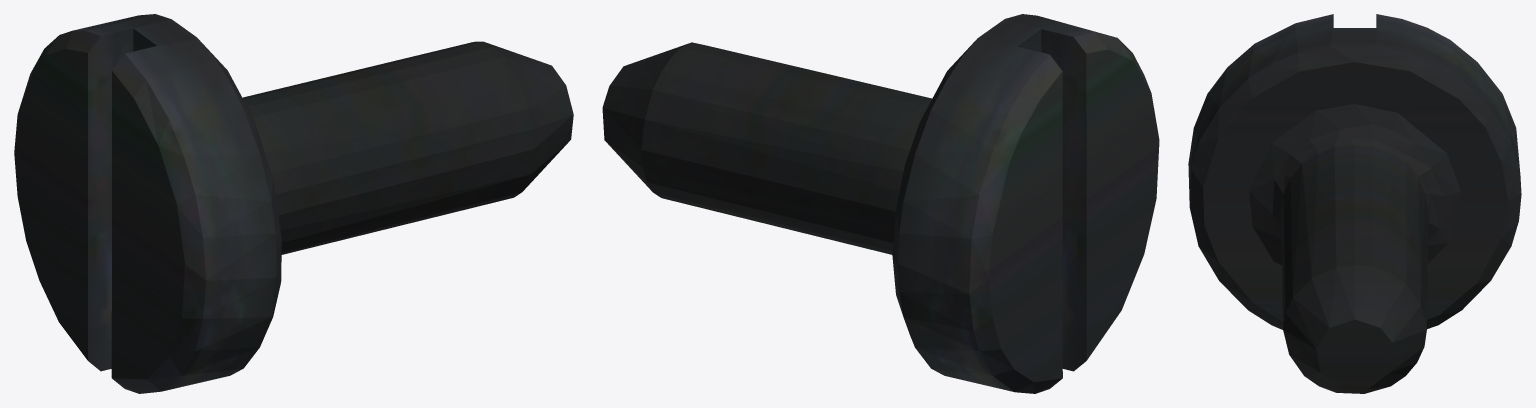
Rendered from Machine_Screw.dae.
3 views of the same model, side by side, from view 1: azimuth 30°, elevation 25°; view 2: azimuth 150°, elevation 25°; view 3: azimuth 270°, elevation 25° (orthographic). The views are drawn at different scales.
Parts seen in each view (by area): view 1: Machine_Screw; view 2: Machine_Screw; view 3: Machine_Screw.
Boxes of the visible parts, left/top/right/bottom form: Machine_Screw: left=14, top=14, right=573, bottom=393; Machine_Screw: left=602, top=14, right=1159, bottom=393; Machine_Screw: left=1188, top=14, right=1521, bottom=393.
Size of the model in its own units: 0.0173 by 0.0124 by 0.0123.
1 material, 1 textured.
